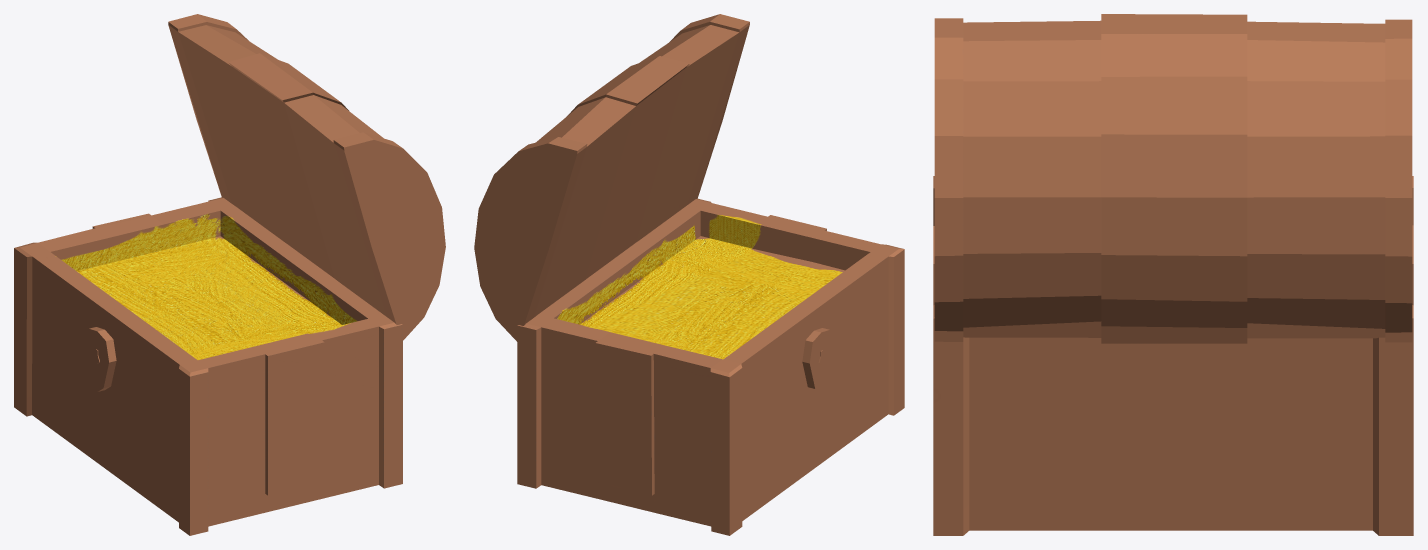
Rendered from treasure.glb.
The picture shows the model from 3 angles, left to right: view 1: azimuth 30°, elevation 25°; view 2: azimuth 150°, elevation 25°; view 3: azimuth 270°, elevation 25°; orthographic projection. The views are drawn at different scales.
Visible parts, largest first — view 1: mesh_id86, mesh_id85, mesh_id88; view 2: mesh_id86, mesh_id85, mesh_id88; view 3: mesh_id85, mesh_id86.
Boxes of the visible parts, left/top/right/bottom form: mesh_id86: left=14, top=197, right=402, bottom=535; mesh_id85: left=168, top=14, right=445, bottom=340; mesh_id88: left=86, top=327, right=116, bottom=391; mesh_id86: left=517, top=198, right=904, bottom=535; mesh_id85: left=474, top=14, right=749, bottom=341; mesh_id88: left=802, top=328, right=832, bottom=392; mesh_id85: left=934, top=14, right=1412, bottom=343; mesh_id86: left=933, top=176, right=1413, bottom=535.
Bounding box in the file's own units: 0.3972 × 0.512 × 0.4614.
Materials: 5 (5 with a texture image).
